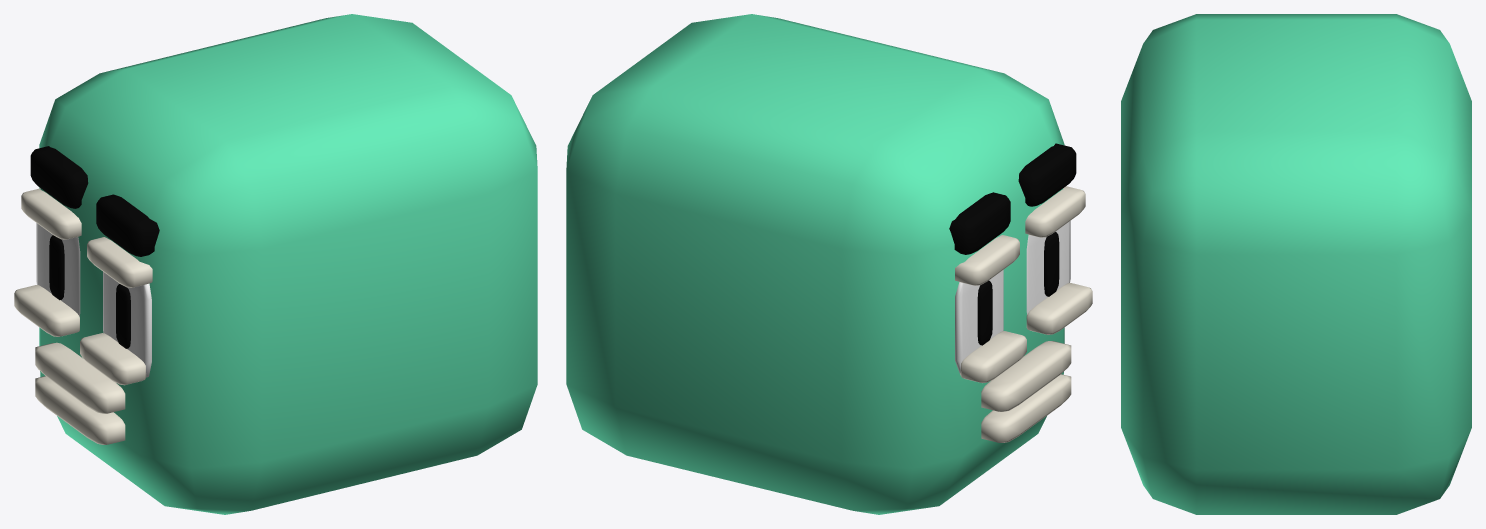
Rendered from art.glb.
The picture shows the model from 3 angles, left to right: view 1: azimuth 30°, elevation 25°; view 2: azimuth 150°, elevation 25°; view 3: azimuth 270°, elevation 25°; orthographic projection.
Parts seen in each view (by area): view 1: Cube; view 2: Cube; view 3: Cube.
Boxes of the visible parts, box(x1,y1,x2,y2) form: Cube: box(14, 14, 537, 514); Cube: box(566, 14, 1092, 514); Cube: box(1121, 14, 1471, 514).
Bounding box in the file's own units: 2.13 × 1.8 × 1.52.
